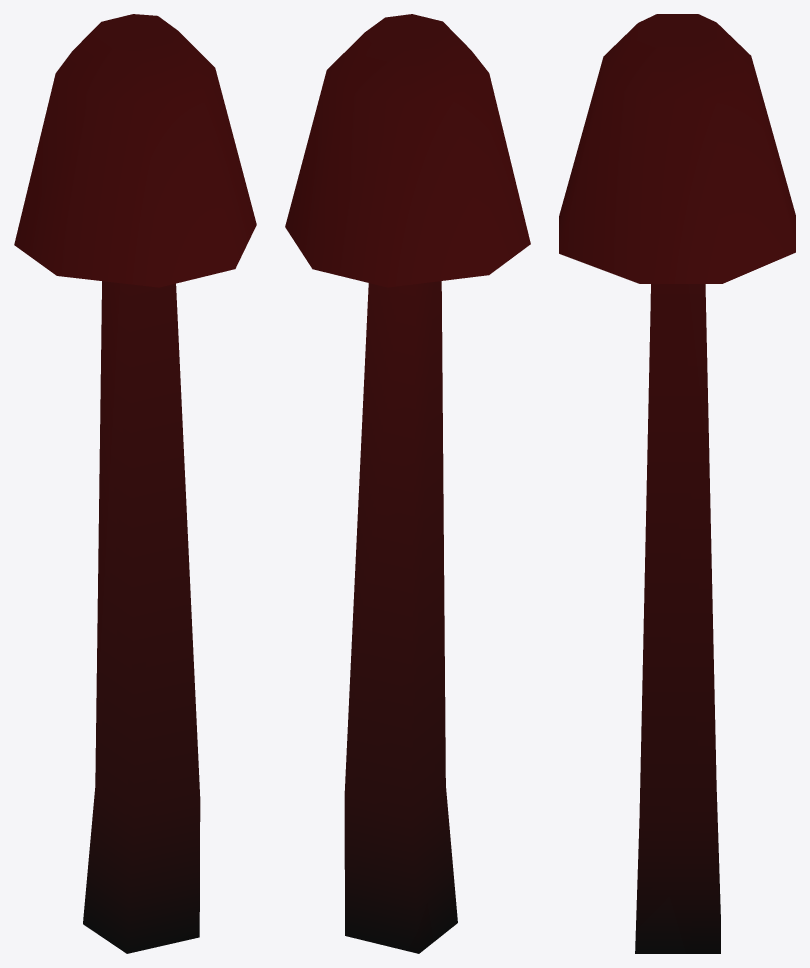
File: SM_Mushroom_Middle.fbx
3 views of the same model, side by side, from view 1: azimuth 30°, elevation 25°; view 2: azimuth 150°, elevation 25°; view 3: azimuth 270°, elevation 25° (orthographic).
Parts seen in each view (by area): view 1: Mushroom Middle; view 2: Mushroom Middle; view 3: Mushroom Middle.
Part boxes in pixels (x1,y1,x2,y2): Mushroom Middle: [14, 14, 256, 953]; Mushroom Middle: [285, 14, 530, 953]; Mushroom Middle: [559, 14, 795, 953].
Bounding box in the file's own units: 0.078 × 0.3306 × 0.0786.
